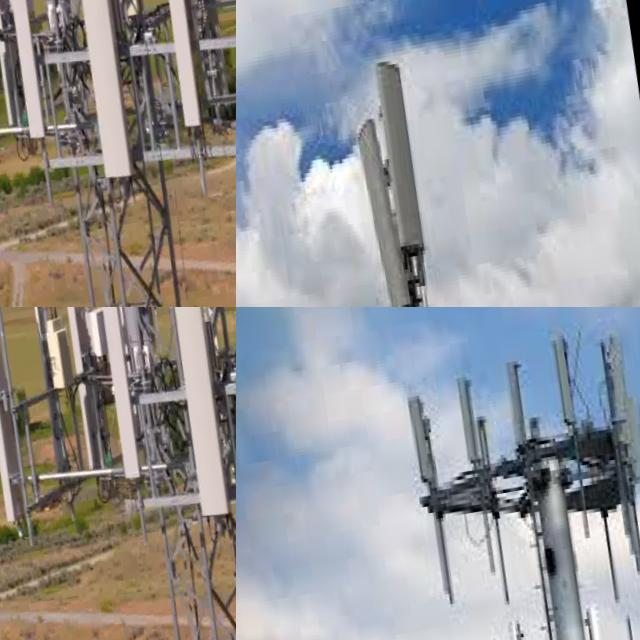GSM Antenna: (55, 0, 159, 201), (151, 307, 236, 523), (366, 52, 441, 267), (348, 113, 421, 307), (47, 307, 121, 476), (92, 307, 157, 496), (0, 307, 51, 532), (0, 0, 67, 158), (148, 0, 217, 133), (159, 0, 236, 98), (397, 381, 450, 494), (0, 0, 36, 136), (451, 374, 491, 476), (549, 332, 585, 432), (504, 356, 539, 452), (580, 600, 622, 640), (504, 614, 550, 640)
Microwave Antenna: (380, 284, 441, 307)
